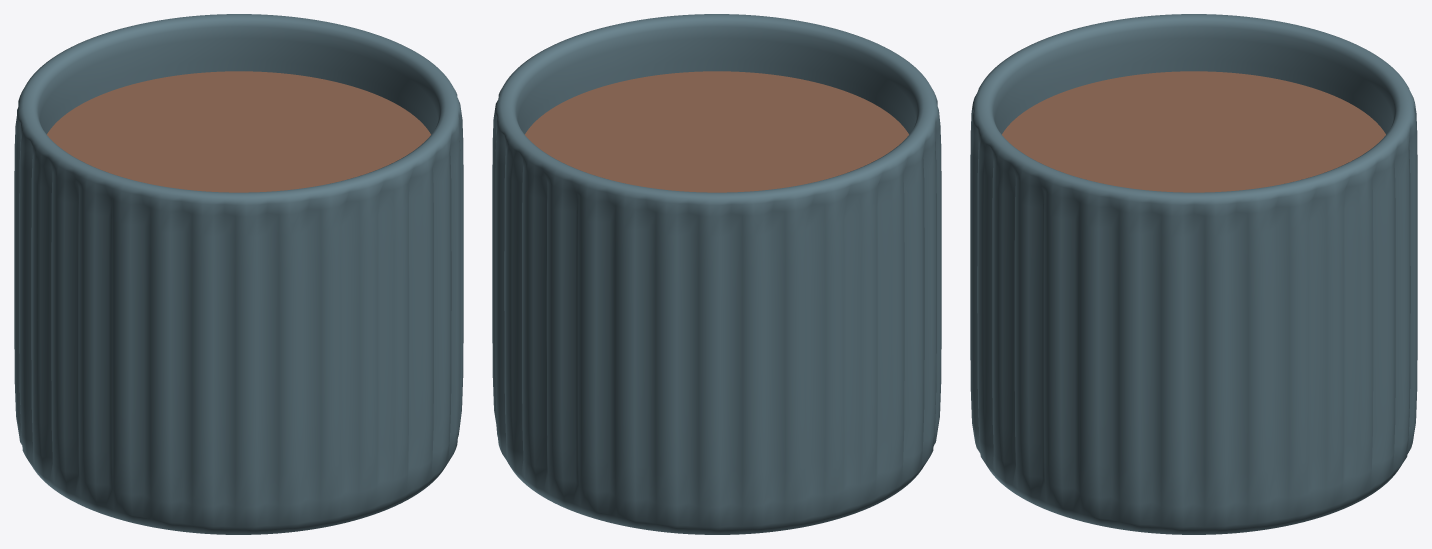
Rendered from fluted_blue.glb.
3 renders of one model, left to right at view 1: azimuth 30°, elevation 25°; view 2: azimuth 150°, elevation 25°; view 3: azimuth 270°, elevation 25°, orthographic.
Parts seen in each view (by area): view 1: Circle.011, Circle.010; view 2: Circle.011, Circle.010; view 3: Circle.011, Circle.010.
Part boxes in pixels (box(x1,y1,x2,y2)): Circle.011: box(14, 14, 463, 534); Circle.010: box(47, 71, 430, 192); Circle.011: box(492, 14, 941, 534); Circle.010: box(525, 71, 908, 192); Circle.011: box(970, 14, 1417, 534); Circle.010: box(1002, 71, 1385, 192).
Bounding box in the file's own units: 11.66 × 9.97 × 11.66.
